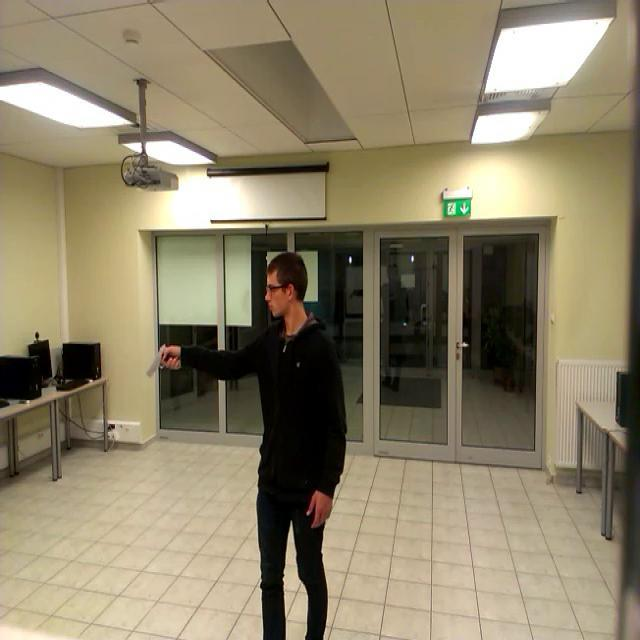Gun: (145, 342, 177, 377)
